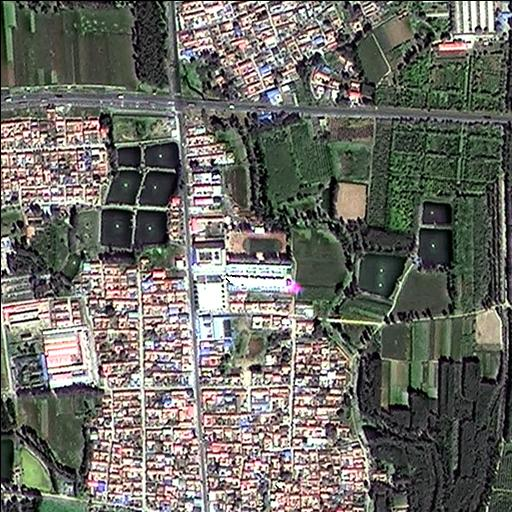school: (225, 230, 294, 291)
